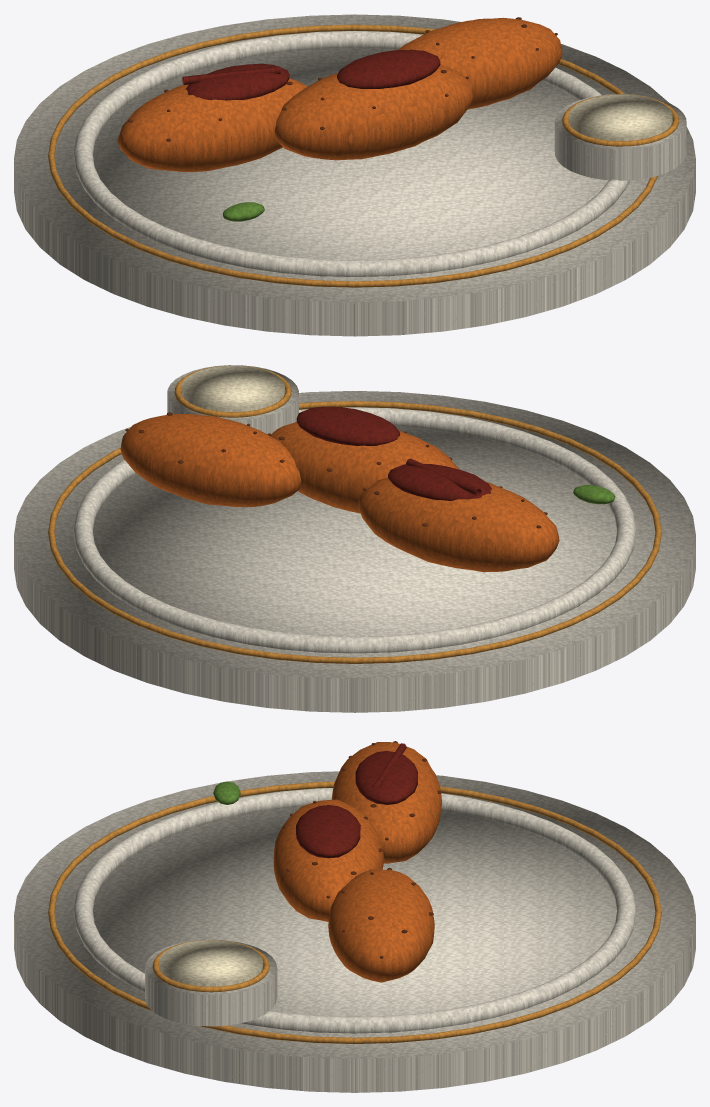
The model's file is carimanolas-caribenas.glb.
3 views of the same model, one above another, from view 1: azimuth 30°, elevation 25°; view 2: azimuth 150°, elevation 25°; view 3: azimuth 270°, elevation 25° (orthographic).
Visible parts, largest first — view 1: porcelain, friedCrust, gold, beef, suero, leafLight; view 2: porcelain, friedCrust, gold, beef, suero, leafLight; view 3: porcelain, friedCrust, gold, beef, suero.
Boxes of the visible parts, x1,y1,x2,y2 form: porcelain: (14,14,695,336); friedCrust: (117,17,562,171); gold: (48,24,679,287); beef: (182,49,440,100); suero: (568,94,672,140); leafLight: (223,202,264,221); porcelain: (14,365,695,712); friedCrust: (120,414,559,572); gold: (48,365,661,663); beef: (296,406,491,500); suero: (181,365,285,412); leafLight: (573,485,615,504); porcelain: (14,771,695,1092); friedCrust: (273,742,441,982); gold: (48,781,661,1043); beef: (296,743,417,858); suero: (159,940,263,986).
Bounding box in the file's own units: 0.64 × 0.1436 × 0.64.
7 materials, 7 textured.
